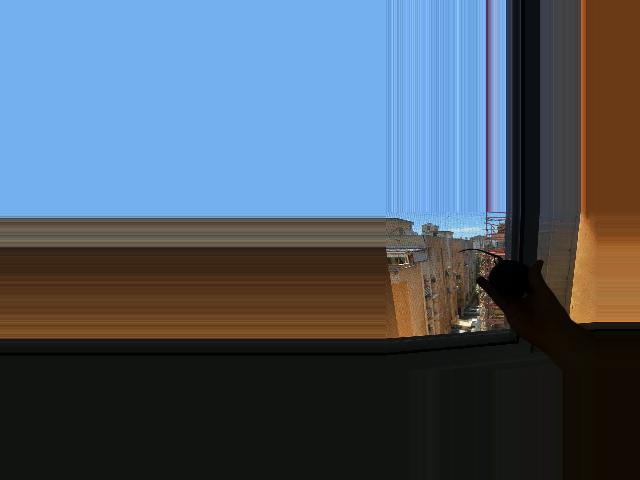beet: (456, 248, 528, 297)
